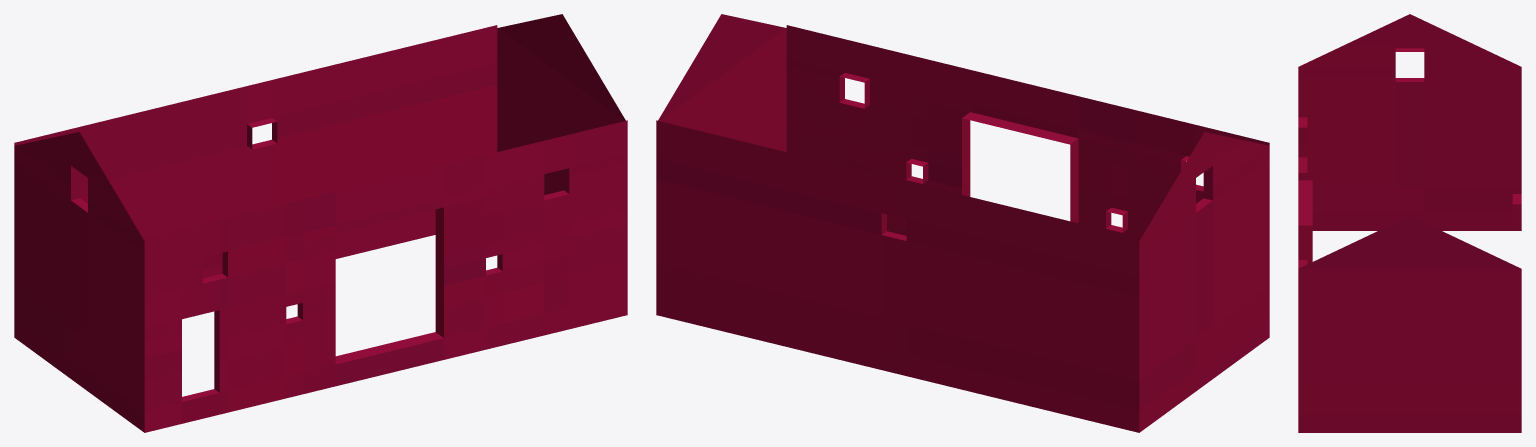
File: SM_Bld_135_Masonry.glb
3 views of the same model, side by side, from view 1: azimuth 30°, elevation 25°; view 2: azimuth 150°, elevation 25°; view 3: azimuth 270°, elevation 25° (orthographic). The views are drawn at different scales.
Visible parts, largest first — view 1: SM_Bld_135_Masonry; view 2: SM_Bld_135_Masonry; view 3: SM_Bld_135_Masonry.
Boxes of the visible parts, bbox=[...] form: SM_Bld_135_Masonry: bbox=[14, 14, 627, 432]; SM_Bld_135_Masonry: bbox=[656, 14, 1269, 432]; SM_Bld_135_Masonry: bbox=[1298, 14, 1521, 432].
Size of the model in its own units: 11.6 by 5.82 by 5.42.
